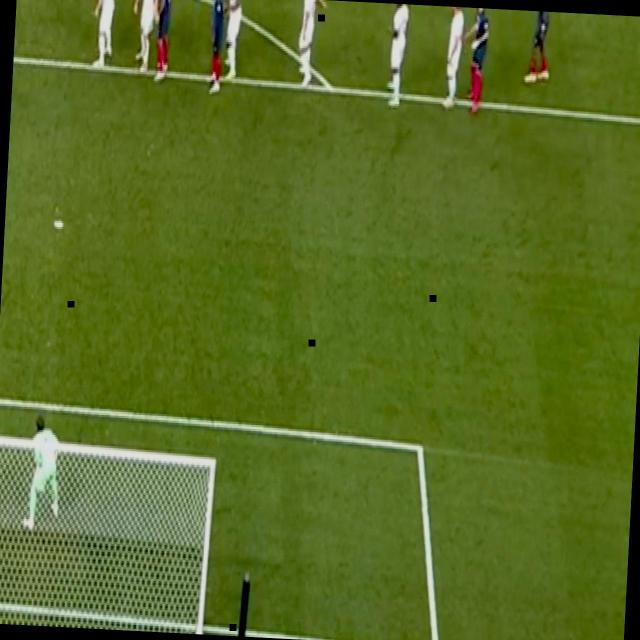player-white: (21, 413, 65, 537), (459, 7, 493, 117), (382, 4, 414, 110), (295, 0, 329, 92), (439, 6, 467, 113), (129, 0, 164, 76), (520, 11, 554, 88), (204, 0, 229, 96), (150, 0, 174, 88), (220, 0, 246, 81), (89, 0, 119, 70)
